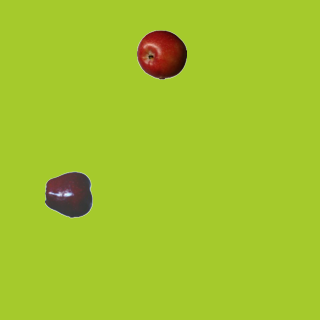Apple Braeburn: (136, 29, 186, 79)
Apple Red Delicious: (44, 169, 94, 219)
